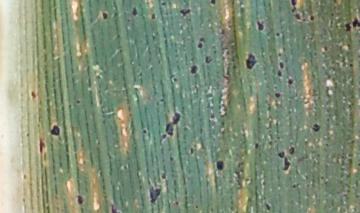tarspot: (164, 111, 181, 137), (148, 185, 163, 205), (244, 52, 257, 70), (281, 156, 291, 174), (37, 136, 46, 154), (49, 124, 60, 137), (310, 122, 322, 133), (214, 159, 225, 171), (109, 202, 121, 213), (179, 7, 192, 17), (288, 1, 298, 13), (255, 20, 265, 32), (189, 64, 199, 76), (75, 193, 84, 206), (351, 16, 360, 28), (343, 21, 352, 33), (160, 165, 167, 180), (131, 5, 139, 17), (292, 12, 301, 22), (204, 55, 213, 65), (276, 150, 286, 159), (287, 145, 295, 156), (218, 27, 227, 36), (100, 11, 108, 21), (29, 90, 37, 100), (286, 78, 295, 86), (275, 69, 283, 78), (278, 60, 285, 70), (253, 141, 260, 151), (264, 202, 271, 212), (273, 91, 281, 99), (160, 133, 168, 141), (196, 41, 203, 50), (150, 11, 156, 21), (189, 146, 195, 156), (20, 195, 26, 205), (167, 154, 174, 162), (24, 130, 31, 138), (309, 14, 315, 23), (312, 50, 318, 59), (274, 31, 281, 38), (172, 76, 179, 83), (173, 200, 180, 207), (198, 36, 206, 42), (158, 97, 166, 103), (323, 44, 328, 53), (329, 11, 335, 18), (160, 1, 167, 7), (231, 63, 237, 70), (142, 128, 147, 136), (22, 172, 27, 180), (301, 17, 307, 23), (347, 62, 353, 68), (75, 99, 81, 105), (277, 51, 282, 58), (209, 1, 215, 6), (194, 204, 200, 209), (332, 1, 337, 4)
